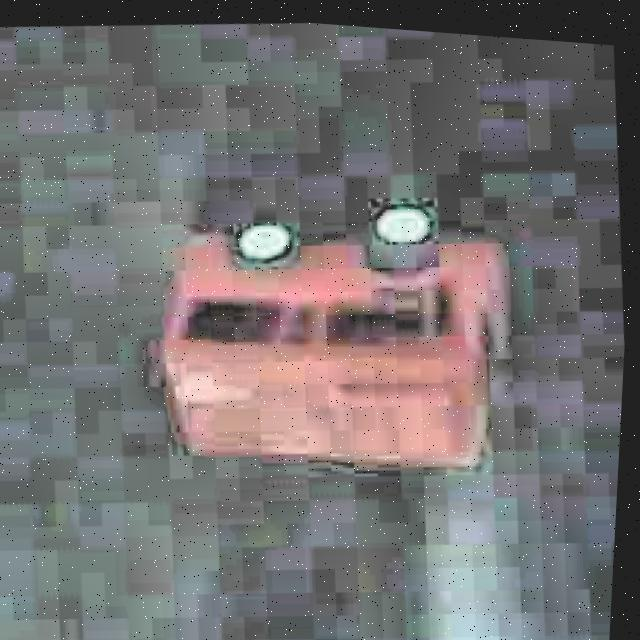bus: (131, 160, 532, 522)
